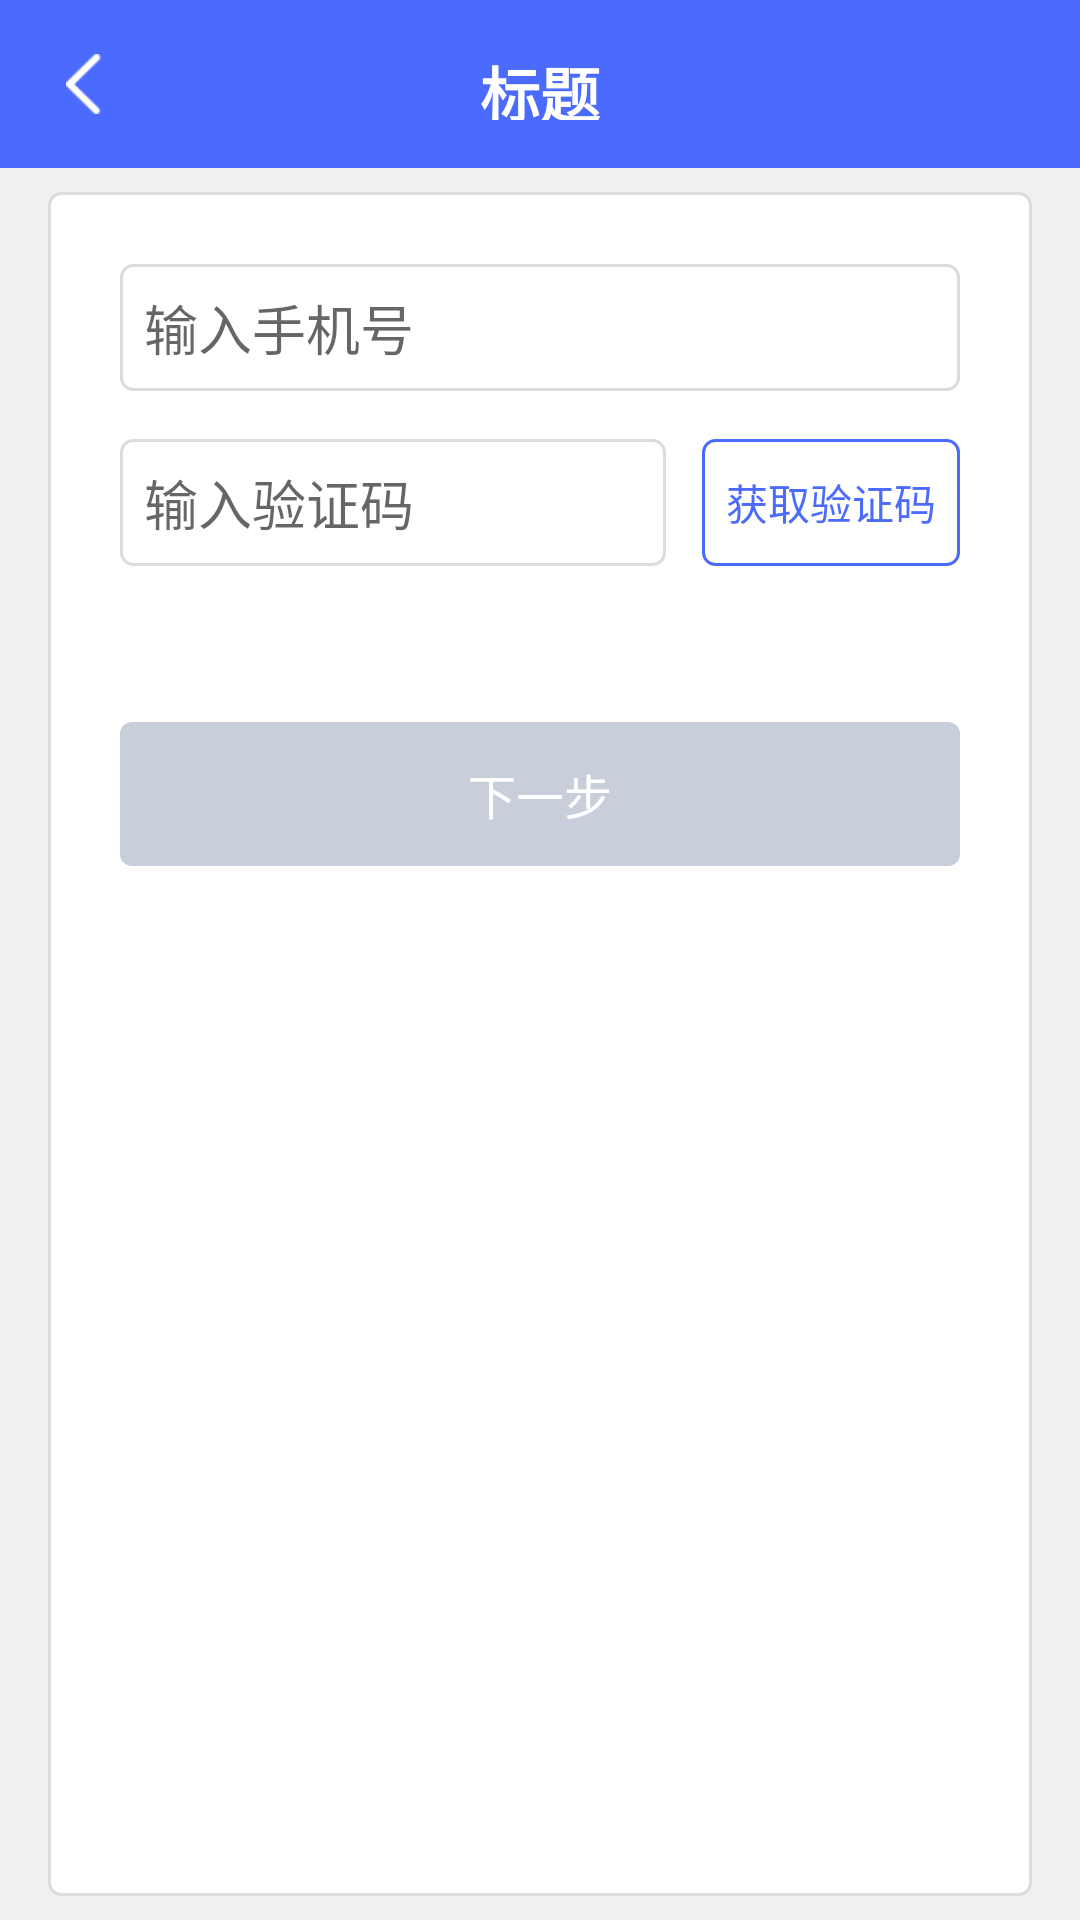

Where icons sit on this 1080 × 1920 app screen, as (x1, y1, x2, y2):
back: (66, 54, 101, 114)
